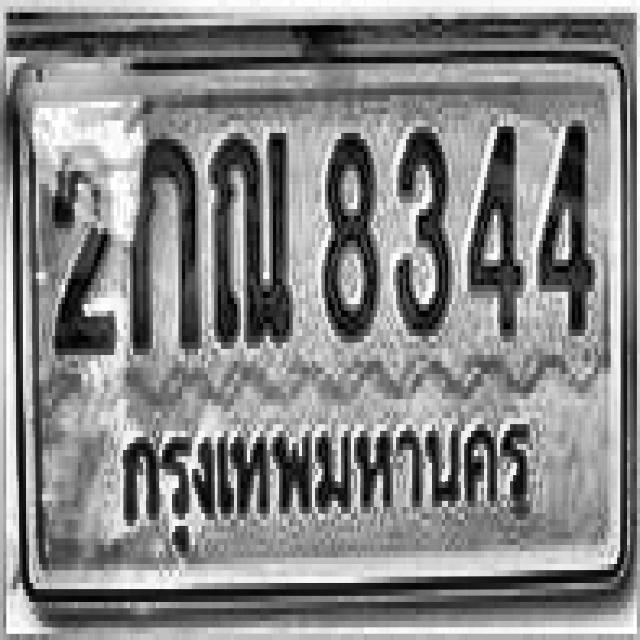license-plate: (10, 58, 632, 603)
